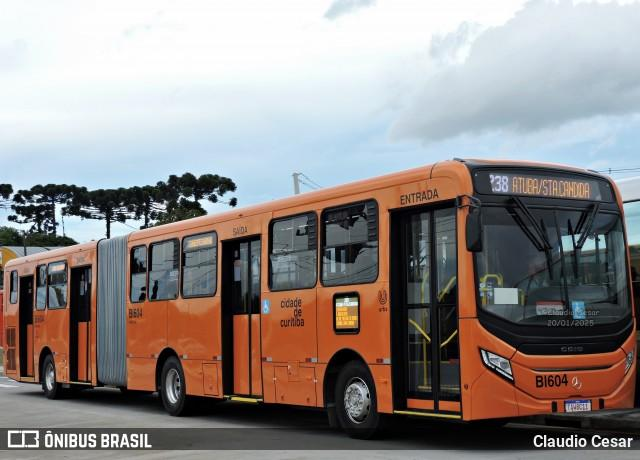ATUBA STACANDIDA: (509, 173, 593, 201)
